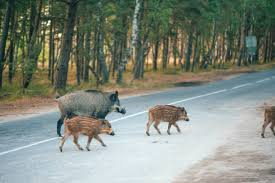boar: (57, 89, 128, 137), (59, 114, 117, 151), (144, 104, 193, 135)
